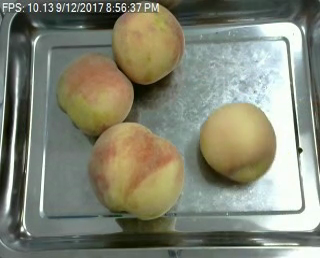Peach: (87, 122, 183, 219), (55, 51, 134, 135), (199, 102, 276, 183), (110, 2, 183, 84)
